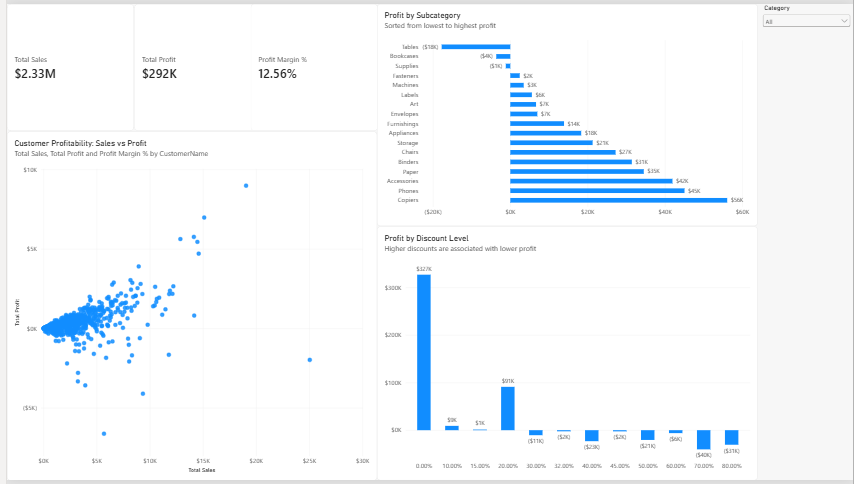

This screenshot's page, from the dashboard's own definition file:
{"tool":"powerbi","page":{"name":"Profitability Overview","canvas":[1920,1080],"ordinal":0},"visuals":[{"type":"cardVisual","fields":{"Data":["orders_clean.Total Sales"]},"box":[0,0,288,288],"z":0},{"type":"cardVisual","fields":{"Data":["orders_clean.Total Profit"]},"box":[288,0,272,288],"z":1},{"type":"cardVisual","fields":{"Data":["orders_clean.Profit Margin %"]},"box":[552,0,288,288],"z":2},{"type":"scatterChart","title":"Customer Profitability: Sales vs Profit","fields":{"Category":["orders_clean.CustomerName"],"X":["orders_clean.Total Sales"],"Y":["orders_clean.Total Profit"]},"box":[0,288,840,792],"z":3},{"type":"clusteredBarChart","title":"Profit by Subcategory","fields":{"Category":["orders_clean.SubCategory"],"Y":["orders_clean.Total Profit"]},"box":[840,0,864,504],"z":4},{"type":"clusteredColumnChart","title":"Profit by Discount Level","fields":{"Category":["orders_clean.Discount"],"Y":["orders_clean.Total Profit"]},"box":[840,504,864,576],"z":5},{"type":"slicer","fields":{"Values":["orders_clean.Category"]},"box":[1712,0,208,64],"z":6}]}

Visuals, with their boxes in screenshot pixels (x1, y1, x2, y2), scaled from the page's 1920x1080 canvas onto the 854x484 screenshot:
cardVisual - orders_clean.Total Sales: 0 0 128 129
cardVisual - orders_clean.Total Profit: 128 0 249 129
cardVisual - orders_clean.Profit Margin %: 246 0 374 129
"Customer Profitability: Sales vs Profit" scatterChart: 0 129 374 483
"Profit by Subcategory" clusteredBarChart: 374 0 758 226
"Profit by Discount Level" clusteredColumnChart: 374 226 758 483
slicer - orders_clean.Category: 761 0 853 29
